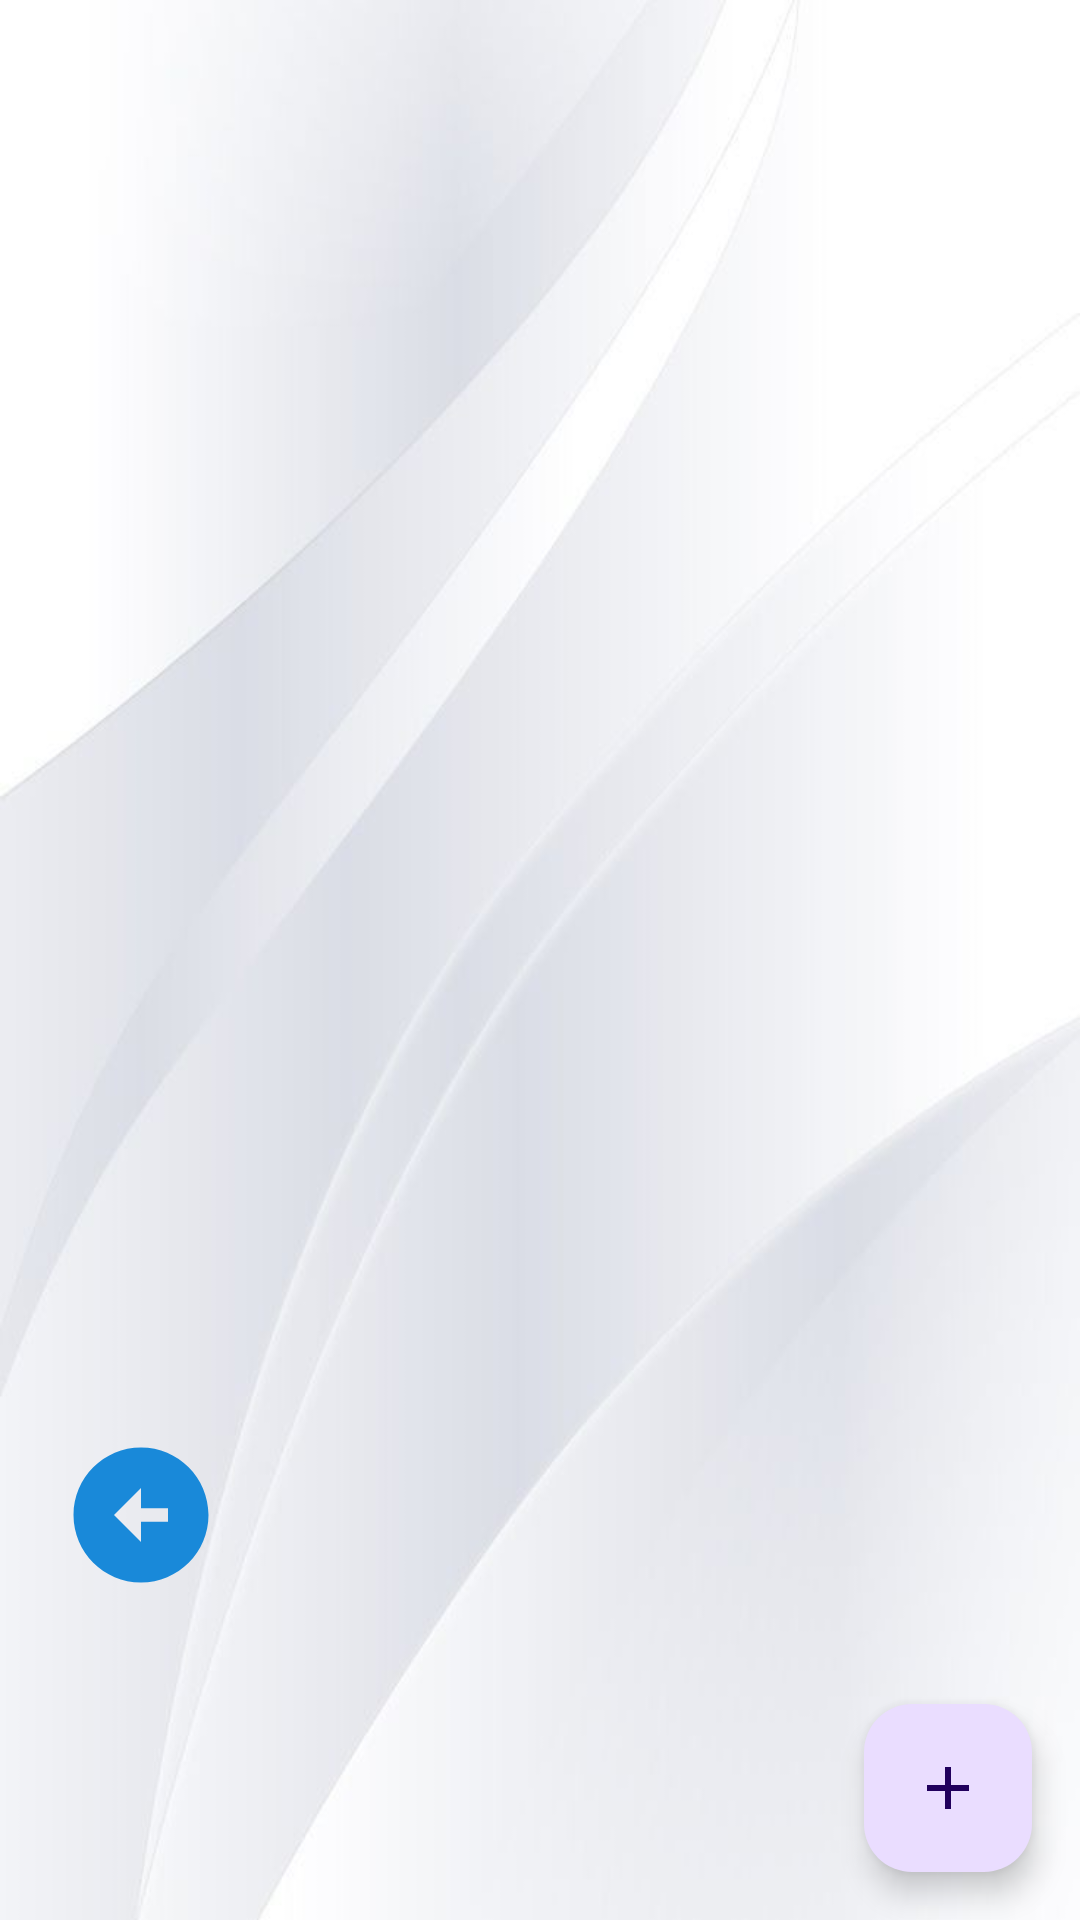

Where icons sit on this 1080x1920 app screen, as BBox(x1, y1, x2, y2):
add: BBox(864, 1704, 1032, 1872)
arrow circle left: BBox(73, 1447, 209, 1583)
